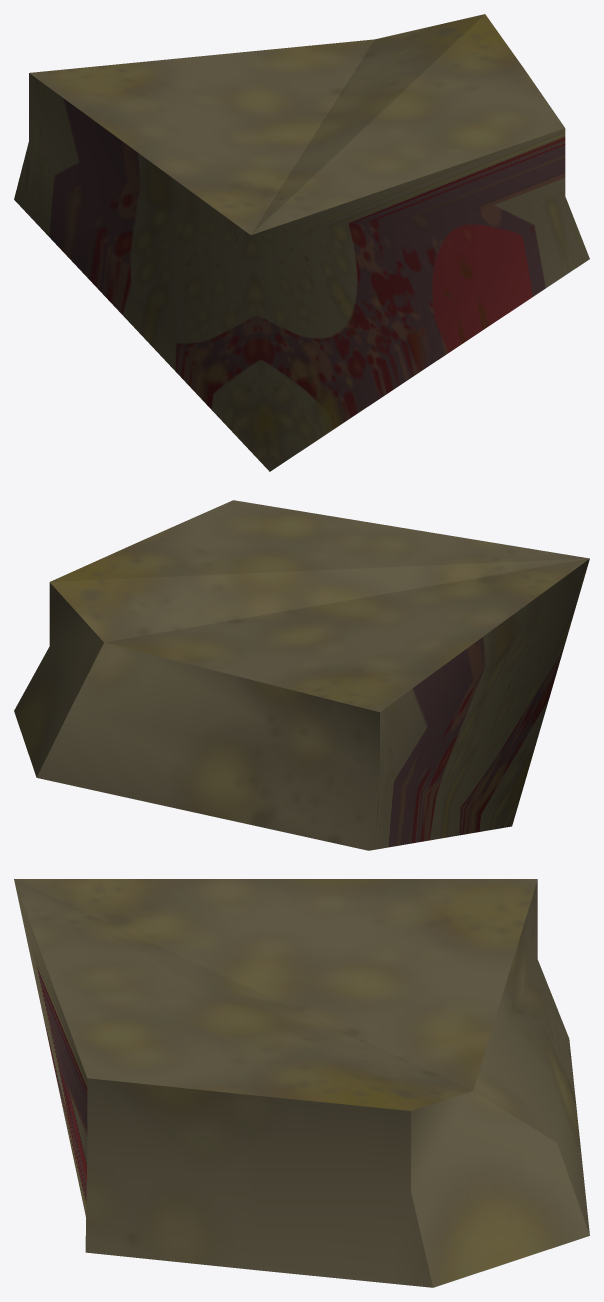
The model's file is ishi_02_7_4.fbx.
3 renders of one model, top to bottom at view 1: azimuth 30°, elevation 25°; view 2: azimuth 150°, elevation 25°; view 3: azimuth 270°, elevation 25°, orthographic. The views are drawn at different scales.
Visible parts, largest first — view 1: polySurface26; view 2: polySurface26; view 3: polySurface26.
Part boxes in pixels (box(x1,y1,x2,y2)): polySurface26: box(14, 14, 589, 471); polySurface26: box(14, 500, 589, 850); polySurface26: box(14, 879, 589, 1287).
Bounding box in the file's own units: 8.54 × 5.14 × 8.35.
1 material, 1 textured.
